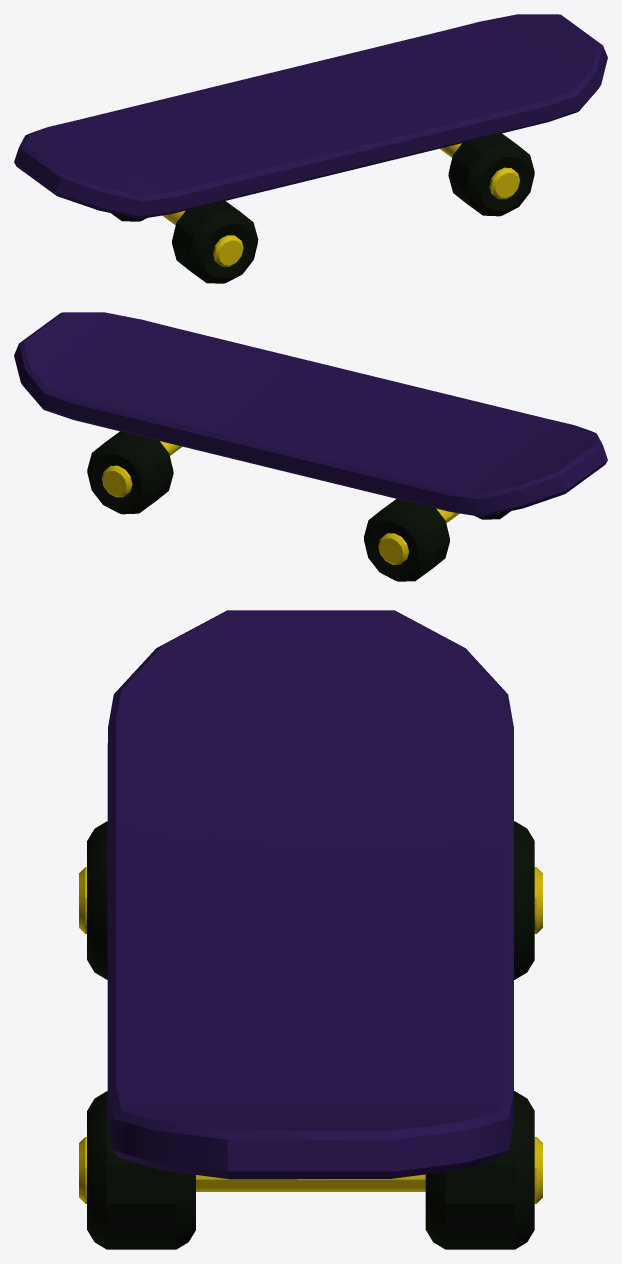
File: Skateboard.FBX
3 views of the same model, one above another, from view 1: azimuth 30°, elevation 25°; view 2: azimuth 150°, elevation 25°; view 3: azimuth 270°, elevation 25° (orthographic). The views are drawn at different scales.
Parts seen in each view (by area): view 1: Skateboard; view 2: Skateboard; view 3: Skateboard.
Part boxes in pixels (x1,y1,x2,y2): Skateboard: (14, 14, 607, 283); Skateboard: (14, 312, 607, 581); Skateboard: (79, 610, 542, 1249).
Bounding box in the file's own units: 1221 × 444 × 250.
